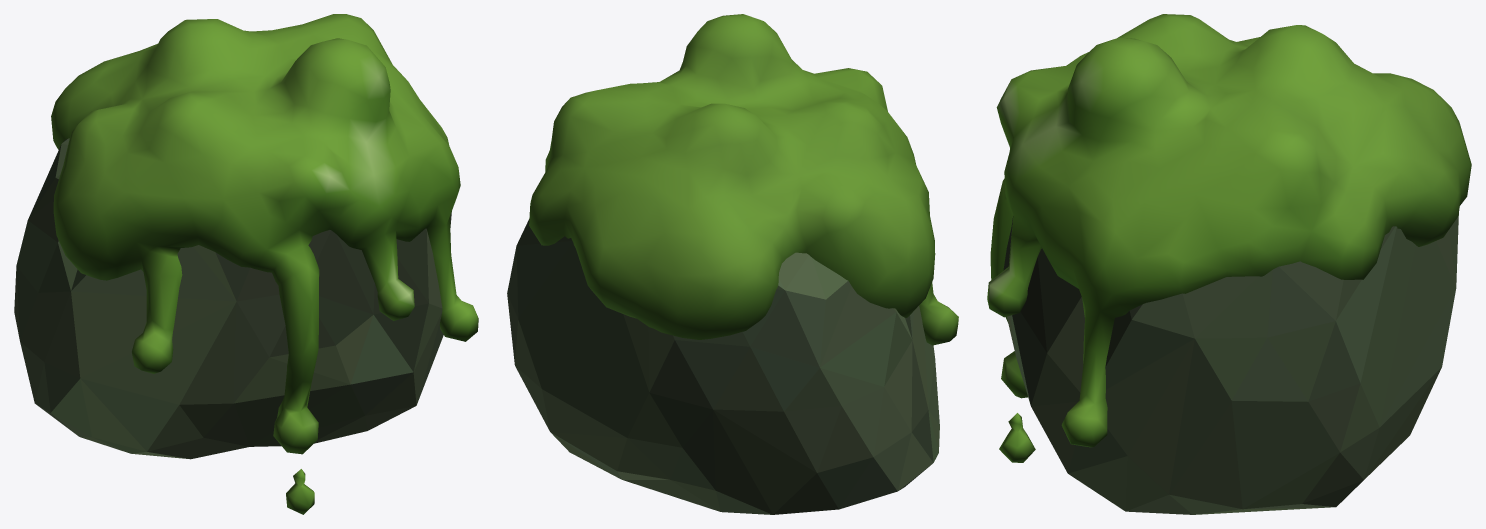
File: Goo_Core.glb
3 renders of one model, left to right at view 1: azimuth 30°, elevation 25°; view 2: azimuth 150°, elevation 25°; view 3: azimuth 270°, elevation 25°, orthographic. The views are drawn at different scales.
Visible parts, largest first — view 1: Goo_Core; view 2: Goo_Core; view 3: Goo_Core.
Boxes of the visible parts, x1,y1,x2,y2 form: Goo_Core: [14, 14, 478, 514]; Goo_Core: [507, 14, 958, 514]; Goo_Core: [987, 14, 1471, 514].
Bounding box in the file's own units: 1.04 × 1.06 × 0.9979.
